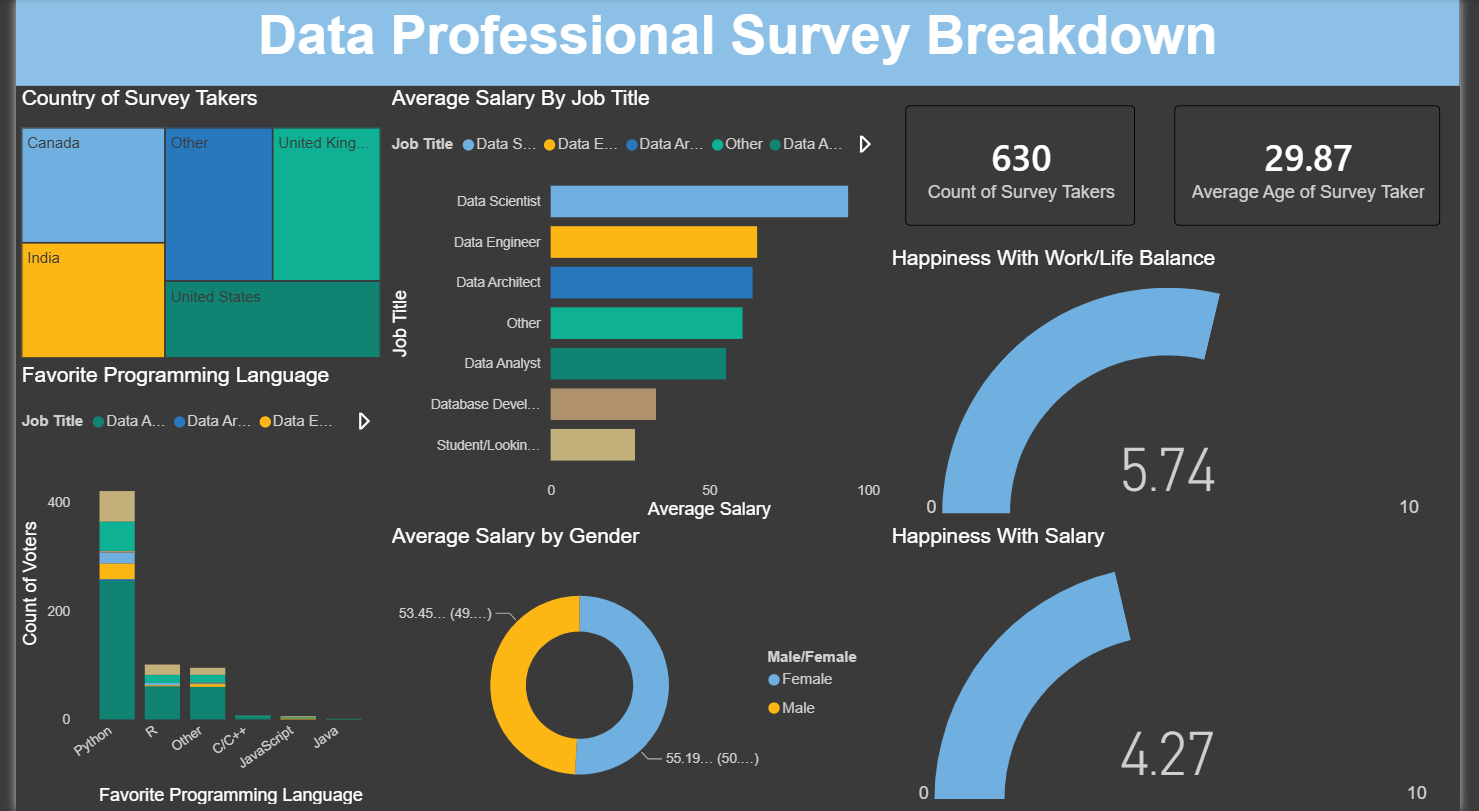

The page's visual inventory and layout, read from the dashboard file:
{"tool":"powerbi","page":{"name":"Page 1","canvas":[1280,720],"ordinal":0},"visuals":[{"type":"textbox","box":[0,0,1280,76.8],"z":0},{"type":"cardVisual","fields":{"Data":["Count(Data Professional Survey.Unique ID)"]},"box":[771.3,77.1,238.2,141.6],"z":1000},{"type":"cardVisual","fields":{"Data":["Avg(Data Professional Survey.Q10 - Current Age)"]},"box":[1009.5,77.1,270.5,141.6],"z":2000},{"type":"barChart","title":"Average Salary By Job Title","fields":{"Category":["Data Professional Survey.Q1 - Which Title Best Fits your Current Role?.1"],"Y":["Avg(Data Professional Survey.Average Salary )"],"Series":["Data Professional Survey.Q1 - Which Title Best Fits your Current Role?.1"]},"box":[328.1,77.1,443.3,388.6],"z":3000},{"type":"columnChart","title":"Favorite Programming Language","fields":{"Category":["Data Professional Survey.Q5 - Favorite Programming Language.1"],"Y":["CountNonNull(Data Professional Survey.Unique ID)"],"Series":["Data Professional Survey.Q1 - Which Title Best Fits your Current Role?.1"]},"box":[0,323.2,328.1,396.4],"z":4000},{"type":"treemap","title":"Country of Survey Takers","fields":{"Group":["Data Professional Survey.Q11 - Which Country do you live in?.1"],"Values":["Count(Data Professional Survey.Q11 - Which Country do you live in?.1)"]},"box":[0,77.1,328.1,246],"z":5000},{"type":"gauge","title":"Happiness With Work/Life Balance","fields":{"Y":["Avg(Data Professional Survey.Q6 - How Happy are you in your Current Position with the following? (Work/Life Balance))"],"MinValue":["Min(Data Professional Survey.Q6 - How Happy are you in your Current Position with the following? (Work/Life Balance))1"],"MaxValue":["Max(Data Professional Survey.Q6 - How Happy are you in your Current Position with the following? (Work/Life Balance))2"]},"box":[771.3,218.7,508.7,247],"z":6000},{"type":"gauge","title":"Happiness With Salary ","fields":{"Y":["Avg(Data Professional Survey.Q6 - How Happy are you in your Current Position with the following? (Salary))"],"MinValue":["Min(Data Professional Survey.Q6 - How Happy are you in your Current Position with the following? (Salary))"],"MaxValue":["Max(Data Professional Survey.Q6 - How Happy are you in your Current Position with the following? (Salary))"]},"box":[771.3,465.7,508.7,253.9],"z":7000},{"type":"donutChart","title":"Average Salary by Gender","fields":{"Category":["Data Professional Survey.Q9 - Male/Female?"],"Y":["Avg(Data Professional Survey.Average Salary )"]},"box":[328.1,465.7,443.3,253.9],"z":8000}]}

Visuals, with their boxes in screenshot pixels (x1, y1, x2, y2), scaled from the page's 1280x720 canvas onto the 1479x811 screenshot:
textbox: select_region(0, 0, 1478, 87)
cardVisual - Count(Data Professional Survey.Unique ID): select_region(891, 87, 1166, 246)
cardVisual - Avg(Data Professional Survey.Q10 - Current Age): select_region(1166, 87, 1478, 246)
"Average Salary By Job Title" barChart: select_region(379, 87, 891, 525)
"Favorite Programming Language" columnChart: select_region(0, 364, 379, 810)
"Country of Survey Takers" treemap: select_region(0, 87, 379, 364)
"Happiness With Work/Life Balance" gauge: select_region(891, 246, 1478, 525)
"Happiness With Salary " gauge: select_region(891, 525, 1478, 810)
"Average Salary by Gender" donutChart: select_region(379, 525, 891, 810)
